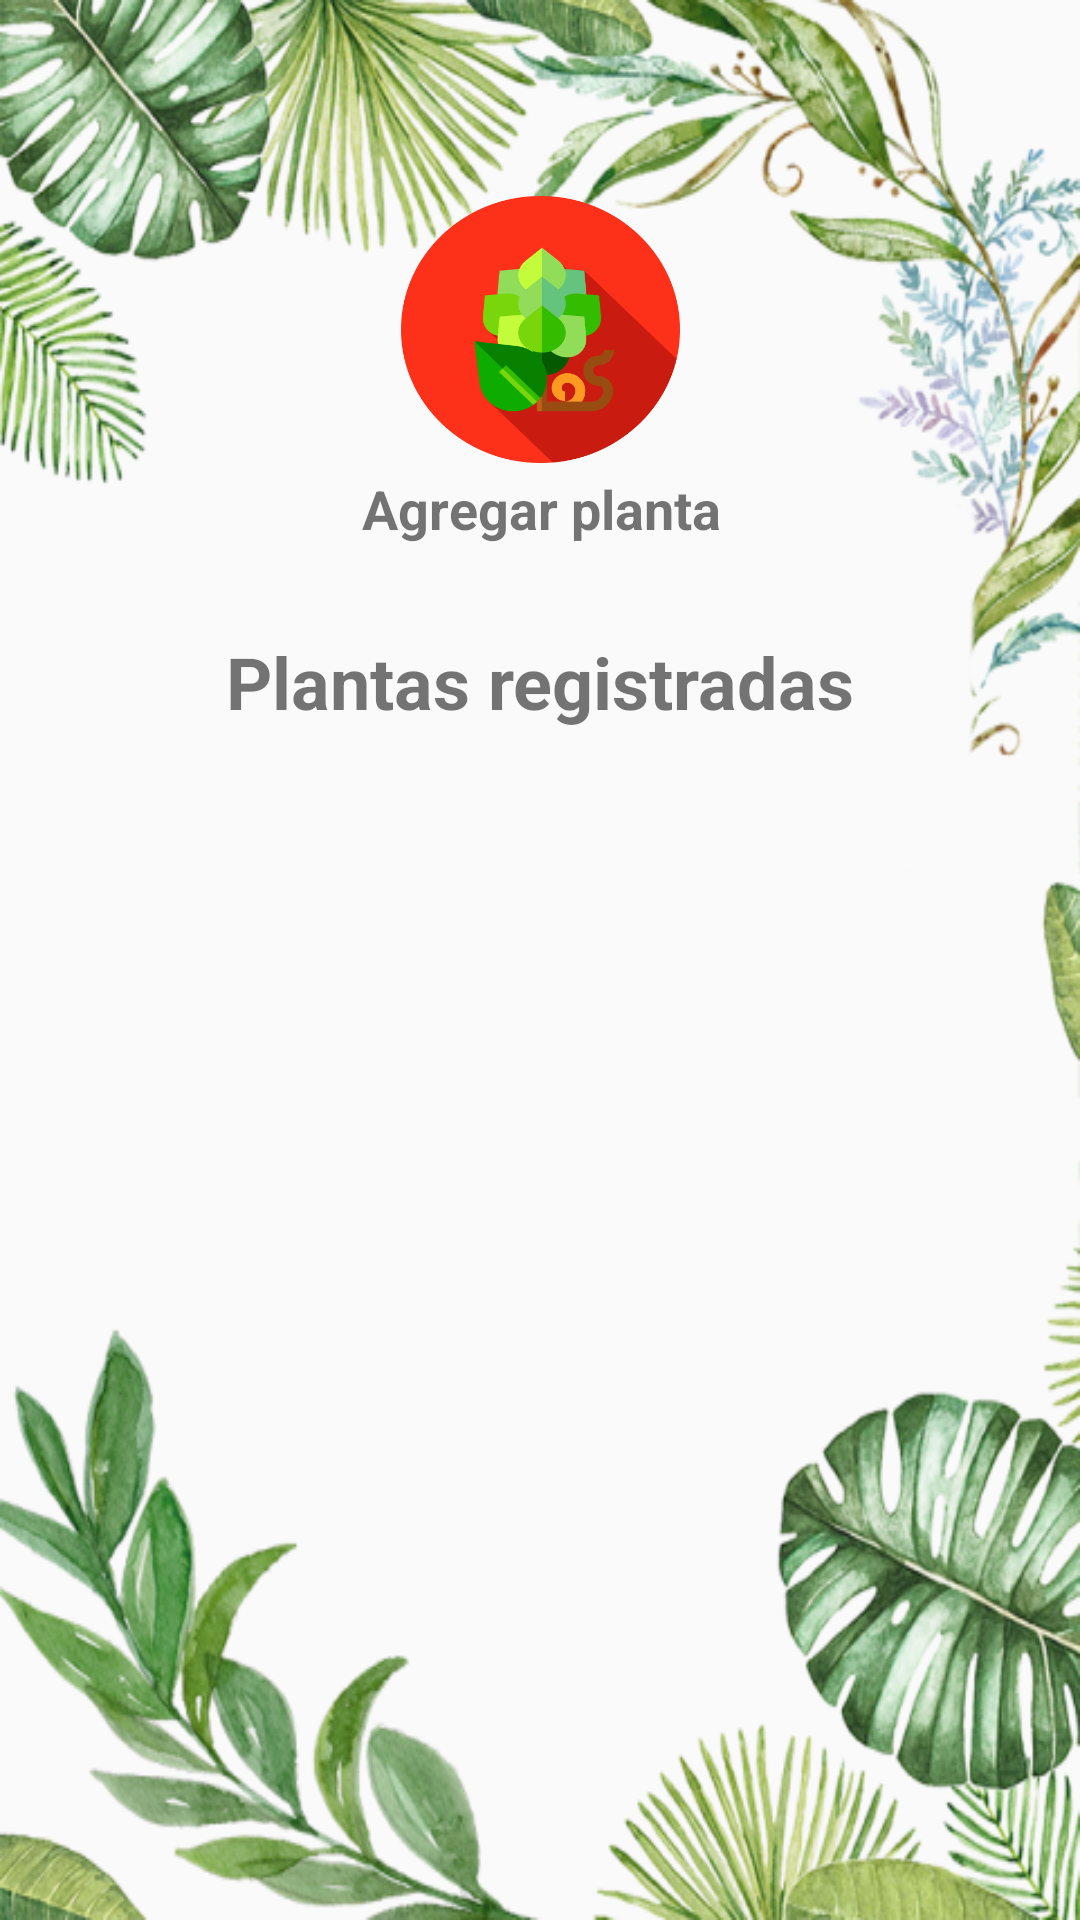

Icon click points for this 1080*1920 phone screenshot, format point (x, y):
hop: point (540, 329)
